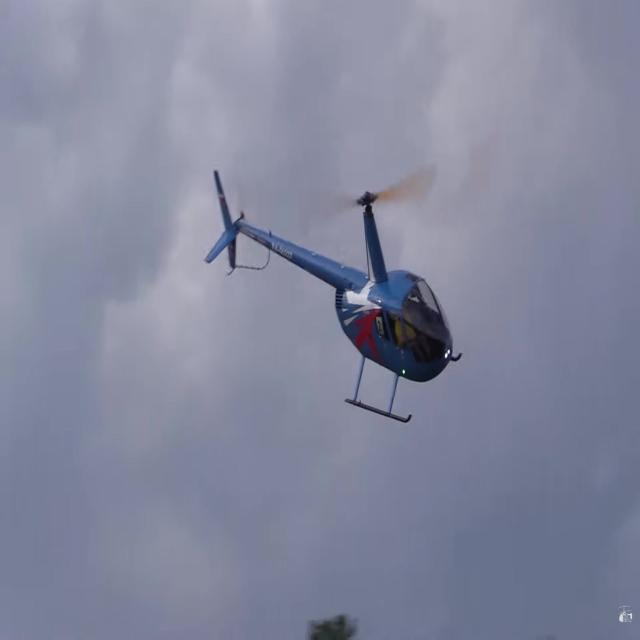CIV_HELO: (203, 167, 464, 427)
